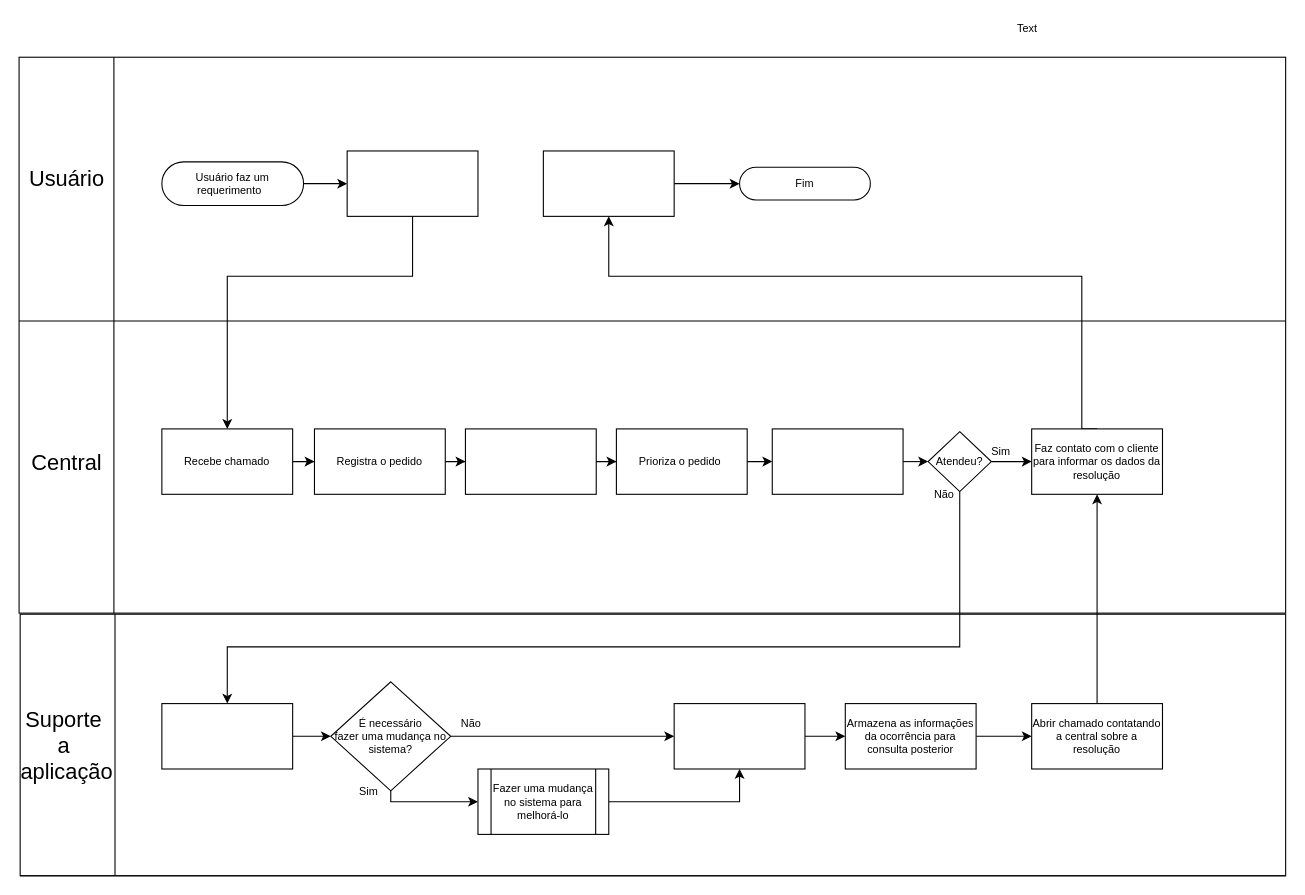
Some shapes in this 1305 by 895 pixel diagram are drawn without their labels. The centre of each missing label's shape, as x and y in pixels:
Abrir chamado para central: point 412,183
Categoriza o pedido: point 530,461
Recebe contato da central e finaliza requerimento: point 608,183
Resolver o problema: point 739,736
Suporte recebe chamado da central para entender o problema: point 227,736
Tenta atender à requisição: point 837,461
